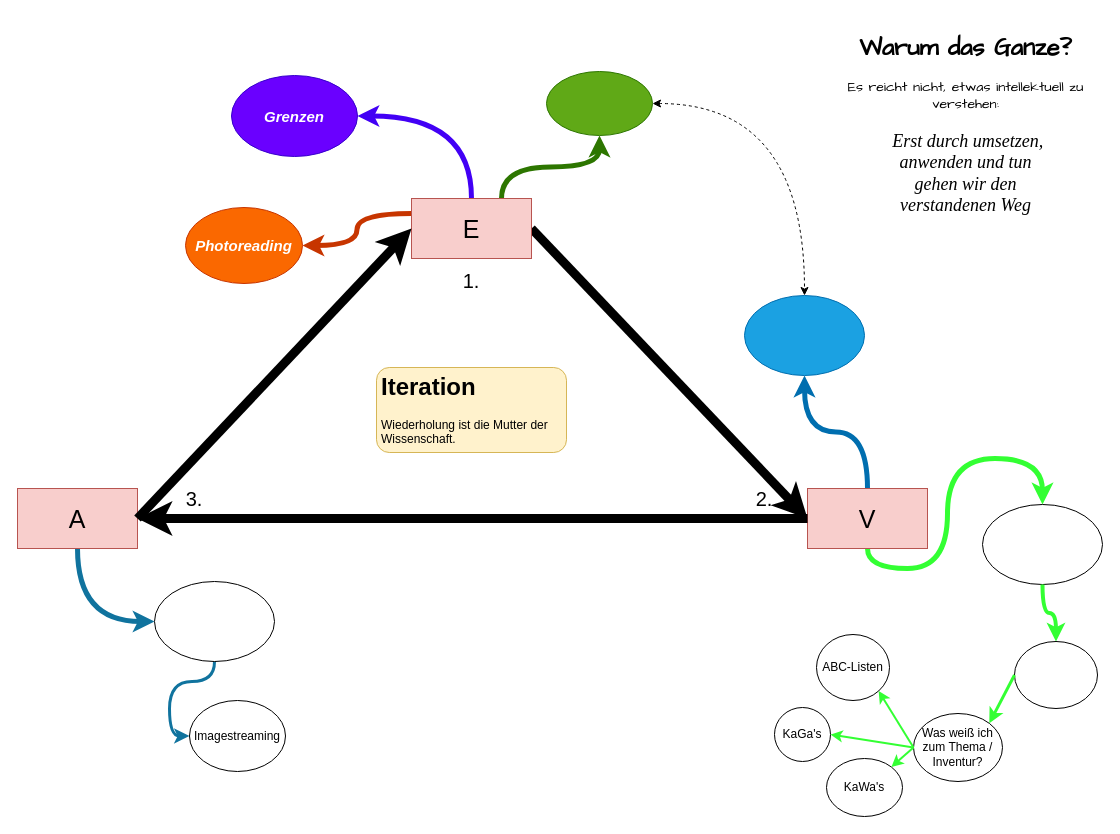
This 1120x834 diagram has some shape labels left out. Each missing label, with the centre of its shape:
"Intelligente Fragen" goes at point (1042, 544).
"Modell / Skelett" goes at point (599, 103).
"Thema aussuchen" goes at point (1056, 674).
"Umsetzung" goes at point (804, 335).
"Virtual Reality" goes at point (214, 621).
